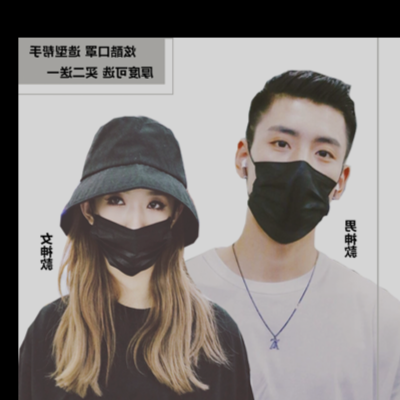with_mask: (244, 124, 345, 243), (91, 189, 173, 276)
